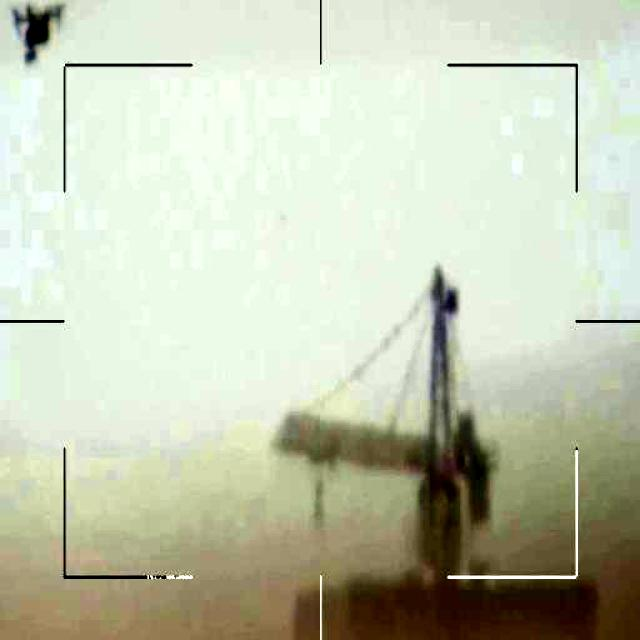bird: (9, 2, 79, 60)
